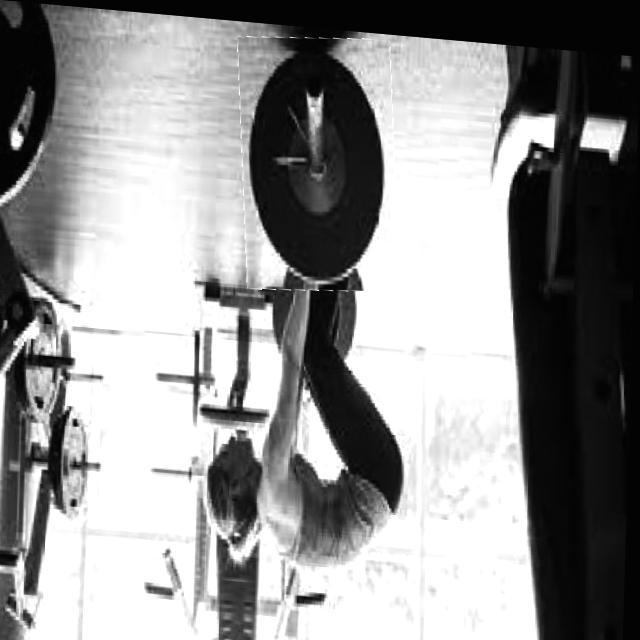barbell: (237, 26, 404, 292)
